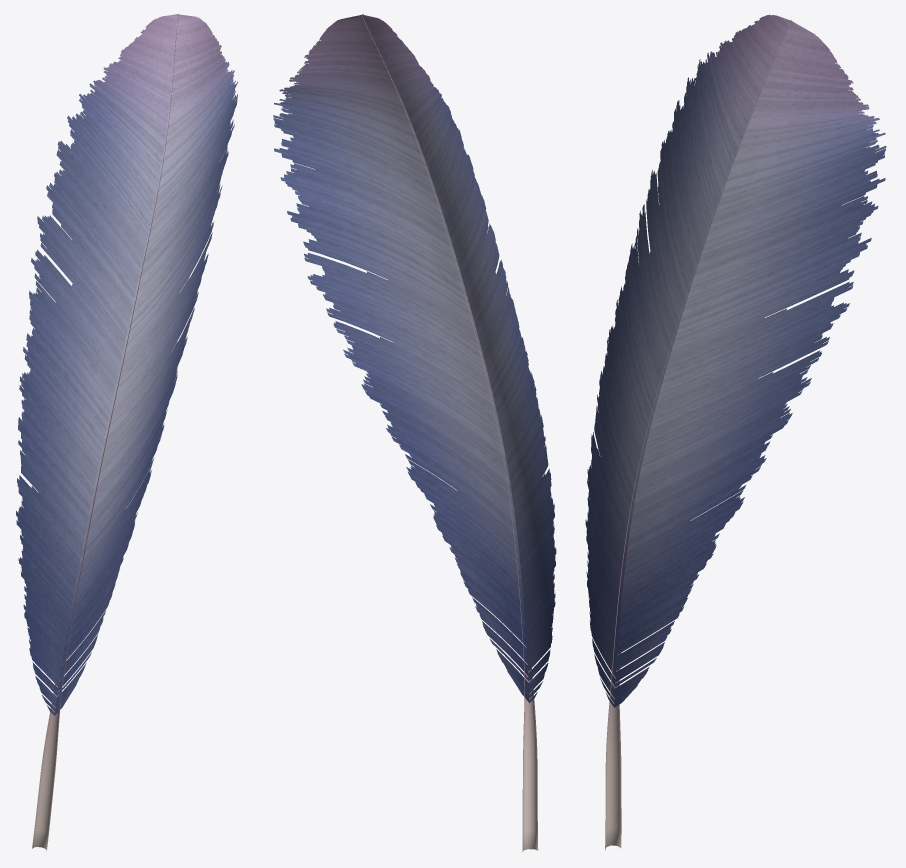
The model's file is pluma.glb.
3 renders of one model, left to right at view 1: azimuth 30°, elevation 25°; view 2: azimuth 150°, elevation 25°; view 3: azimuth 330°, elevation 25°, orthographic. The views are drawn at different scales.
Parts seen in each view (by area): view 1: Vexilo_izquierdo, Vexilo_derecho, Raquis; view 2: Vexilo_derecho, Vexilo_izquierdo, Raquis; view 3: Vexilo_derecho, Vexilo_izquierdo, Raquis.
Part boxes in pixels (box(x1,y1,x2,y2)): Vexilo_izquierdo: box(16, 14, 177, 715); Vexilo_derecho: box(54, 14, 237, 715); Raquis: box(32, 14, 178, 851); Vexilo_derecho: box(273, 14, 529, 702); Vexilo_izquierdo: box(363, 15, 556, 702); Raquis: box(362, 14, 538, 851); Vexilo_derecho: box(614, 21, 886, 707); Vexilo_izquierdo: box(585, 14, 791, 707); Raquis: box(605, 20, 791, 850).
Bounding box in the file's own units: 1.07 × 3.21 × 0.3355.
2 materials, 1 textured.
